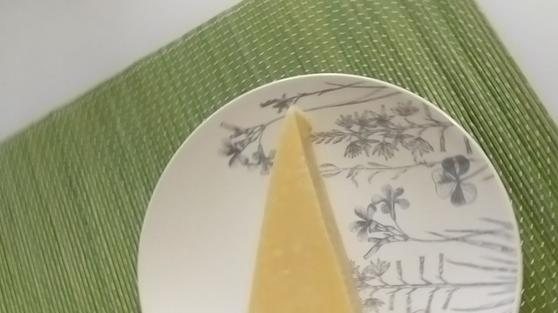cheese: (243, 108, 369, 313)
